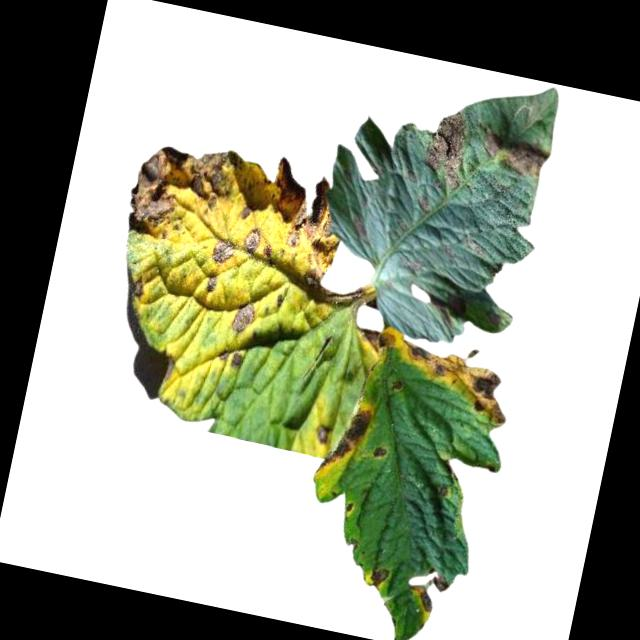Early_blight: (121, 131, 248, 255), (388, 336, 519, 431), (255, 152, 353, 271), (468, 123, 554, 183), (420, 105, 476, 192), (315, 399, 374, 481), (295, 268, 368, 314), (407, 568, 450, 617), (355, 323, 397, 362), (226, 298, 259, 338), (209, 236, 237, 265), (365, 563, 393, 590), (312, 420, 335, 447), (242, 226, 262, 253), (370, 444, 389, 466), (202, 271, 217, 298), (131, 276, 148, 297), (227, 350, 244, 370), (343, 500, 355, 518)
